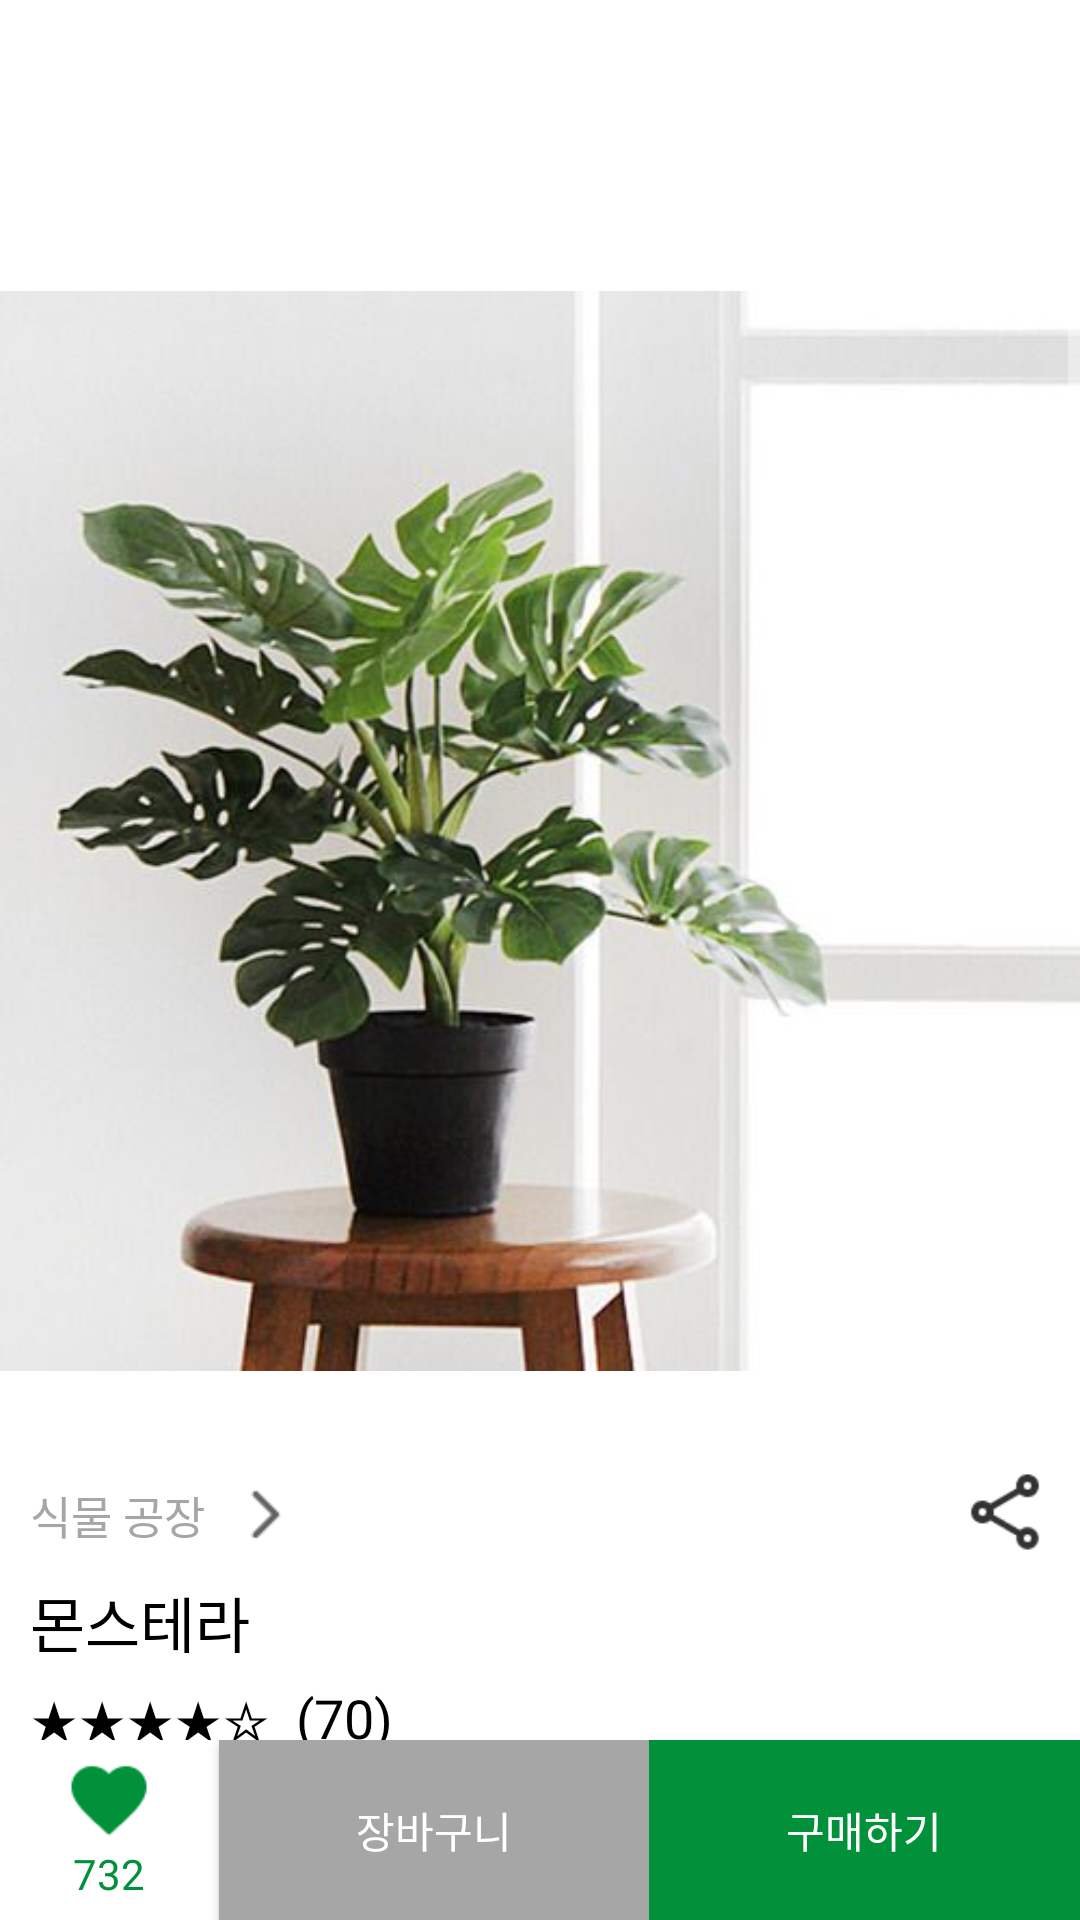

Named icons in this screenshot (1080×1920) and their bounding boxes, (x1, y1, x2, y2):
arrow forward: (251, 1491, 280, 1538)
favorite: (71, 1765, 147, 1836)
share: (971, 1474, 1039, 1550)
